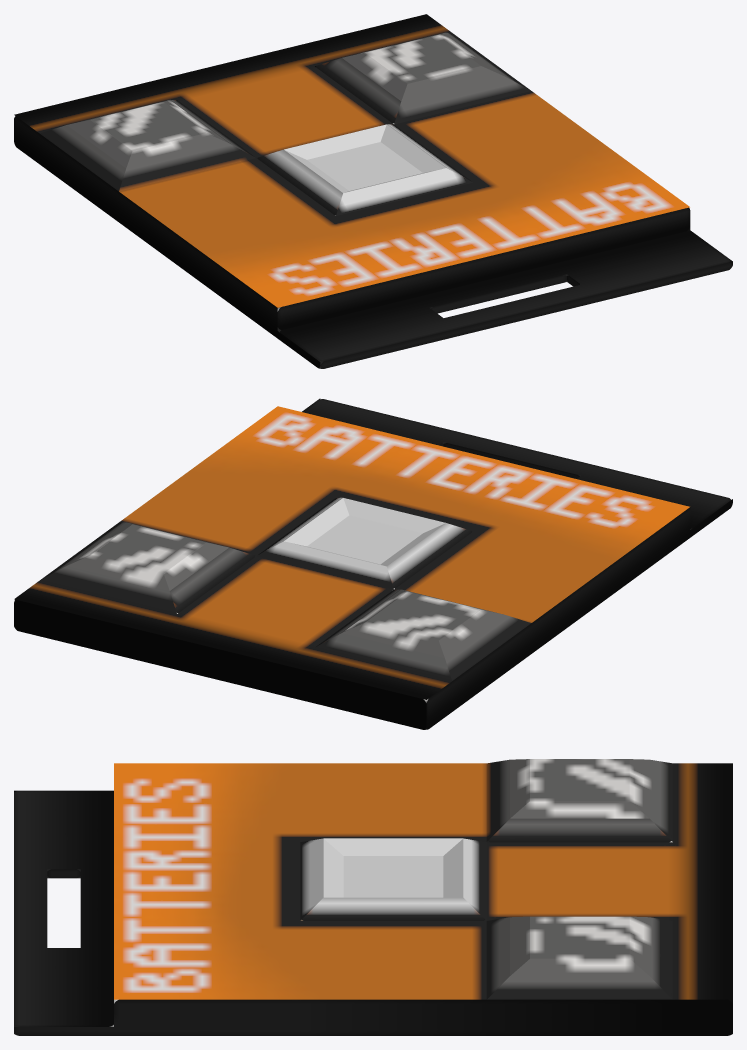
File: ButtonBatteries.fbx
3 renders of one model, top to bottom at view 1: azimuth 30°, elevation 25°; view 2: azimuth 150°, elevation 25°; view 3: azimuth 270°, elevation 25°, orthographic. The views are drawn at different scales.
Visible parts, largest first — view 1: cuboid; view 2: cuboid; view 3: cuboid.
Part boxes in pixels (x1,y1,x2,y2): cuboid: (14,14,732,368); cuboid: (14,398,732,729); cuboid: (14,759,732,1035).
Bounding box in the file's own units: 175 × 20.31 × 225.
1 material, 1 textured.
